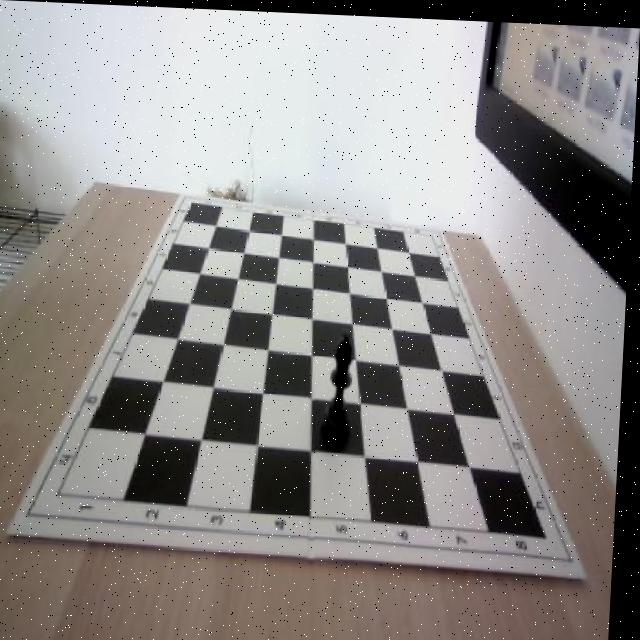bishop: (326, 327, 361, 442)
